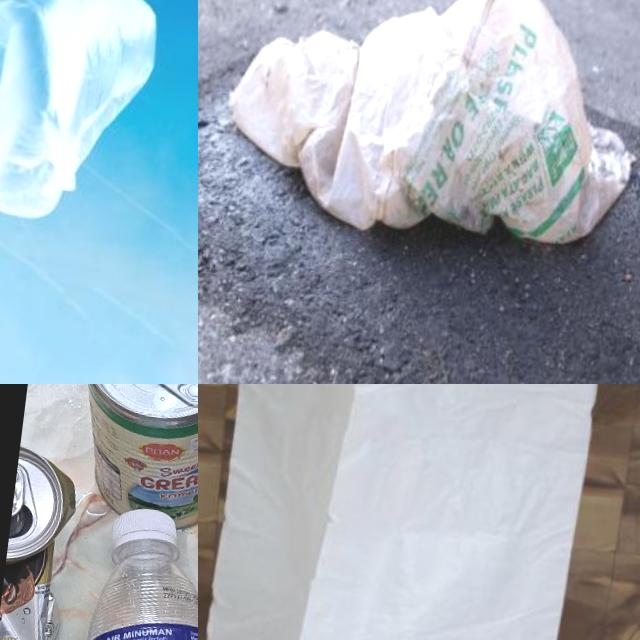aba de lata: (147, 384, 198, 407), (12, 464, 26, 518)
garrafa plástica: (51, 533, 198, 640)
lata: (68, 384, 198, 536), (0, 447, 80, 640)
sacola plástica: (221, 0, 640, 281), (198, 384, 630, 640), (0, 0, 197, 272)
tampa plástica: (106, 504, 182, 569)
